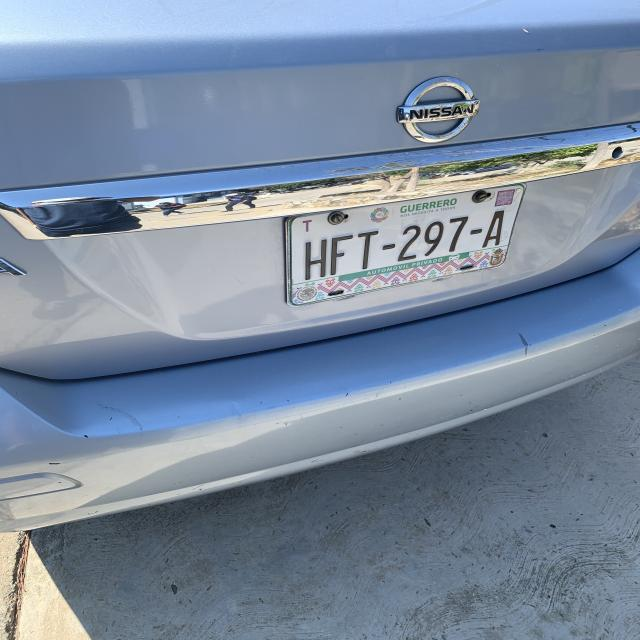placa: (290, 204, 521, 275)
